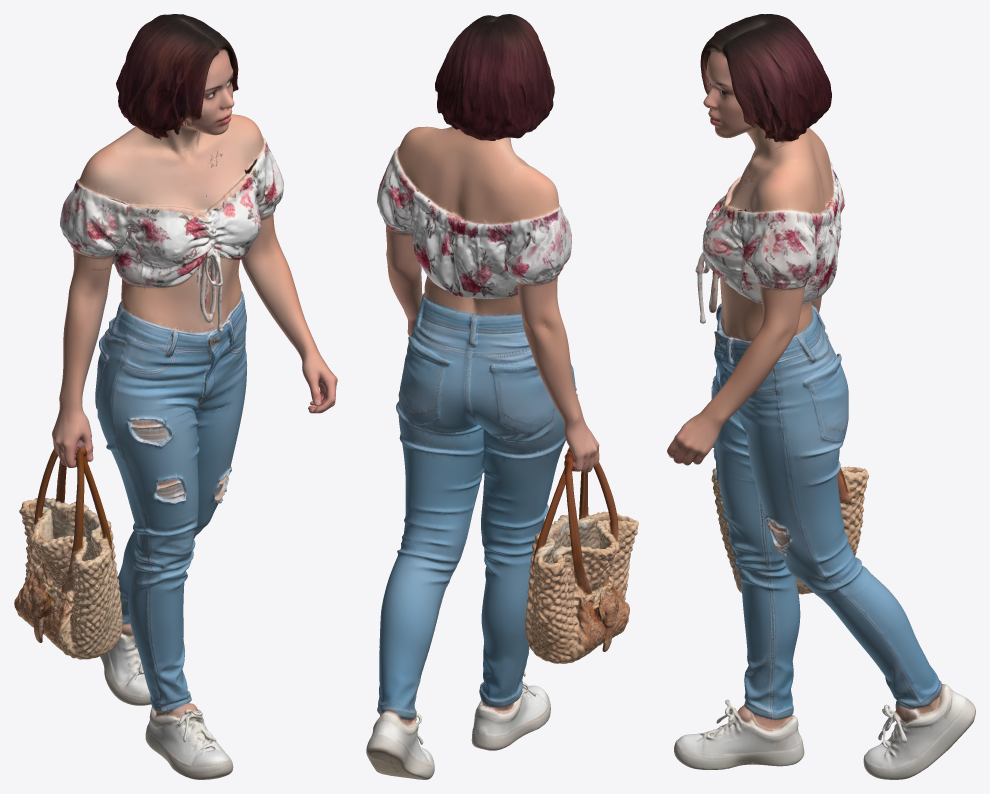
The model's file is Femalenpc.glb.
3 renders of one model, left to right at view 1: azimuth 30°, elevation 25°; view 2: azimuth 150°, elevation 25°; view 3: azimuth 270°, elevation 25°, orthographic. The views are drawn at different scales.
Visible parts, largest first — view 1: Object_3, Object_2, Object_4, Object_6, Object_5; view 2: Object_5, Object_4, Object_2, Object_3, Object_6; view 3: Object_2, Object_4, Object_5, Object_3, Object_6.
Part boxes in pixels (x1,y1,x2,y2): Object_3: (47,14,315,764); Object_2: (42,41,337,779); Object_4: (16,14,283,752); Object_6: (31,16,288,748); Object_5: (14,79,228,705); Object_5: (368,45,617,779); Object_4: (377,17,629,750); Object_2: (366,15,638,758); Object_3: (405,14,638,734); Object_6: (388,17,627,745); Object_2: (667,26,975,769); Object_4: (742,17,843,764); Object_5: (760,29,972,779); Object_3: (709,14,804,753); Object_6: (746,15,798,766).
Bounding box in the file's own units: 0.5997 × 1.65 × 0.6228.
1 material, 1 textured.
